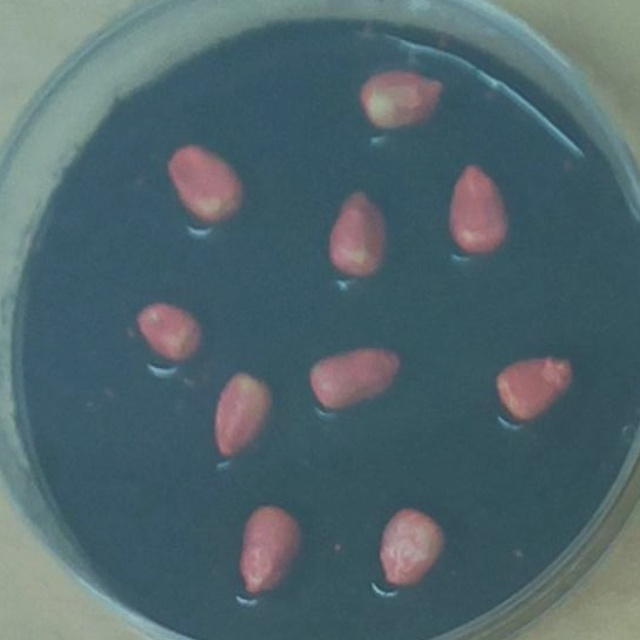Zea mays: (301, 334, 411, 422), (158, 135, 252, 230), (231, 496, 312, 603), (353, 57, 455, 139), (442, 153, 518, 263), (372, 497, 455, 596), (488, 344, 582, 430), (321, 179, 398, 283), (207, 362, 282, 464), (132, 291, 213, 369)
